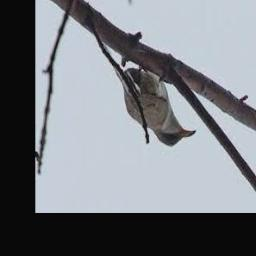Cuckoo: (120, 68, 195, 148)
